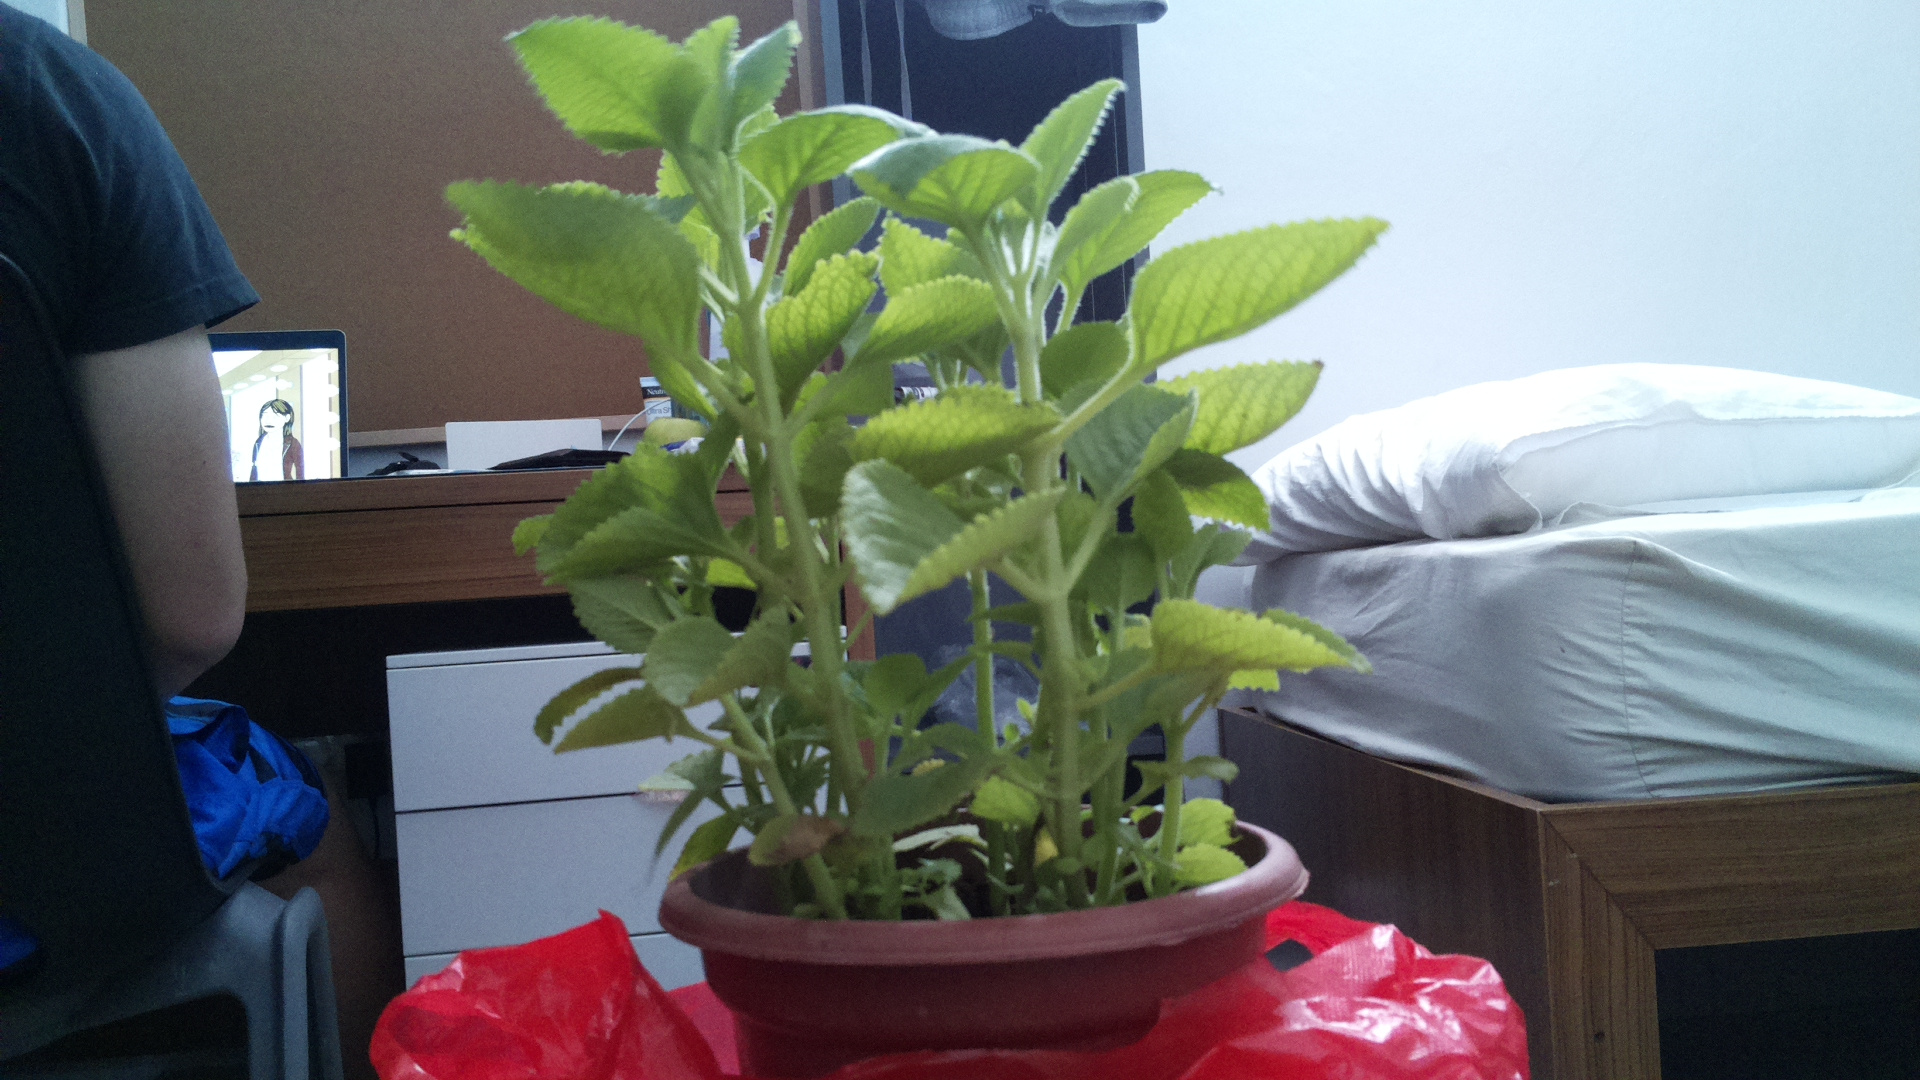leaf: (462, 166, 724, 373), (1112, 206, 1393, 389), (831, 454, 1081, 613), (480, 11, 720, 166), (1033, 150, 1218, 301), (1145, 587, 1387, 688), (831, 377, 1087, 469), (731, 91, 923, 206), (837, 258, 1036, 369), (861, 137, 1040, 225), (637, 611, 796, 707)
